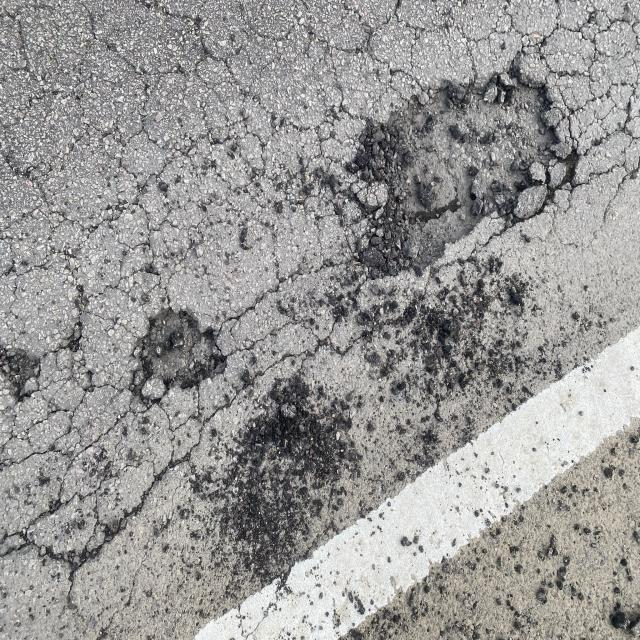pothole: (317, 52, 638, 292), (105, 284, 268, 418)
